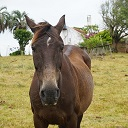caballo: (16, 7, 98, 127)
